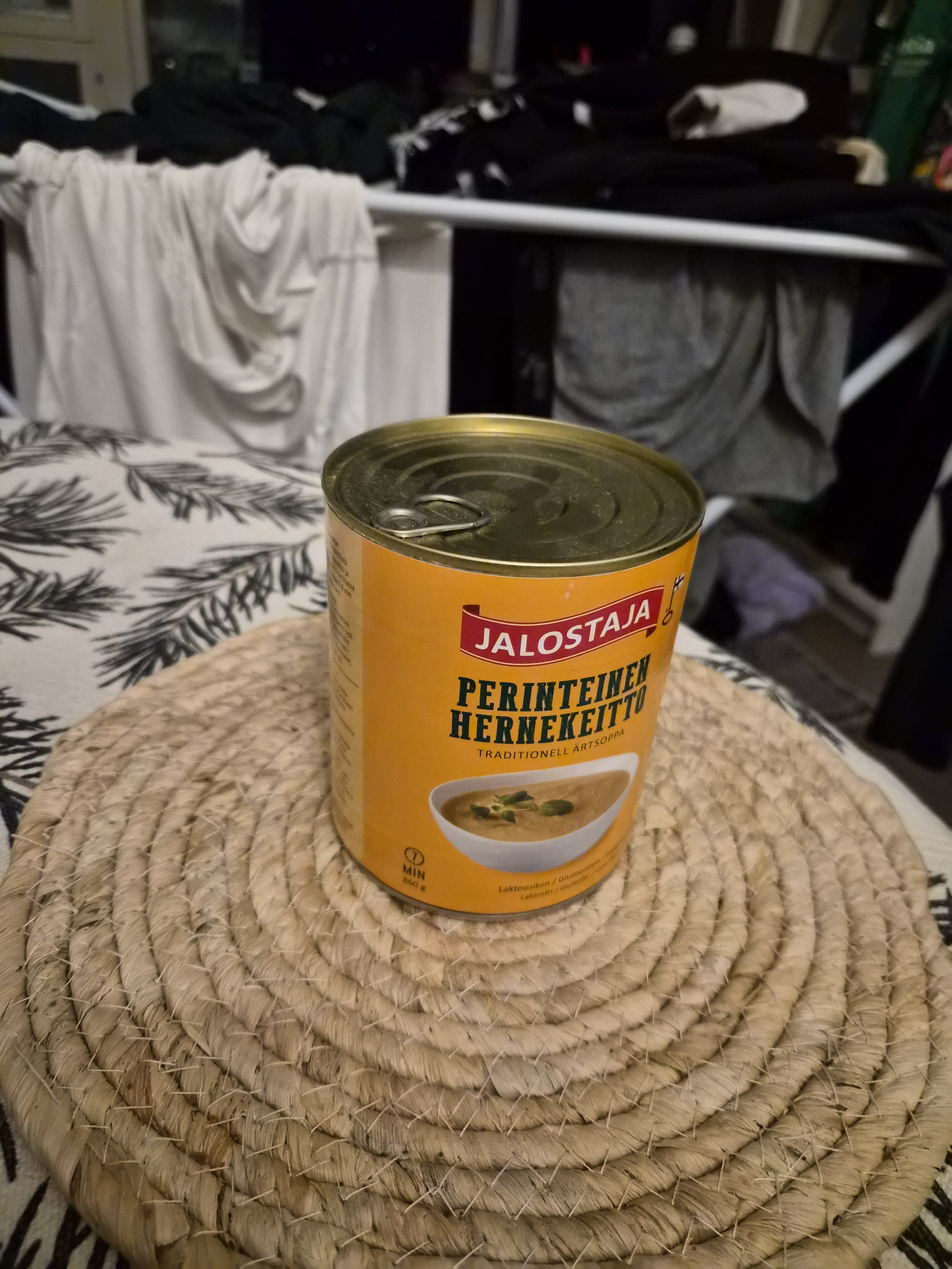Konservburk: (318, 405, 708, 922)
